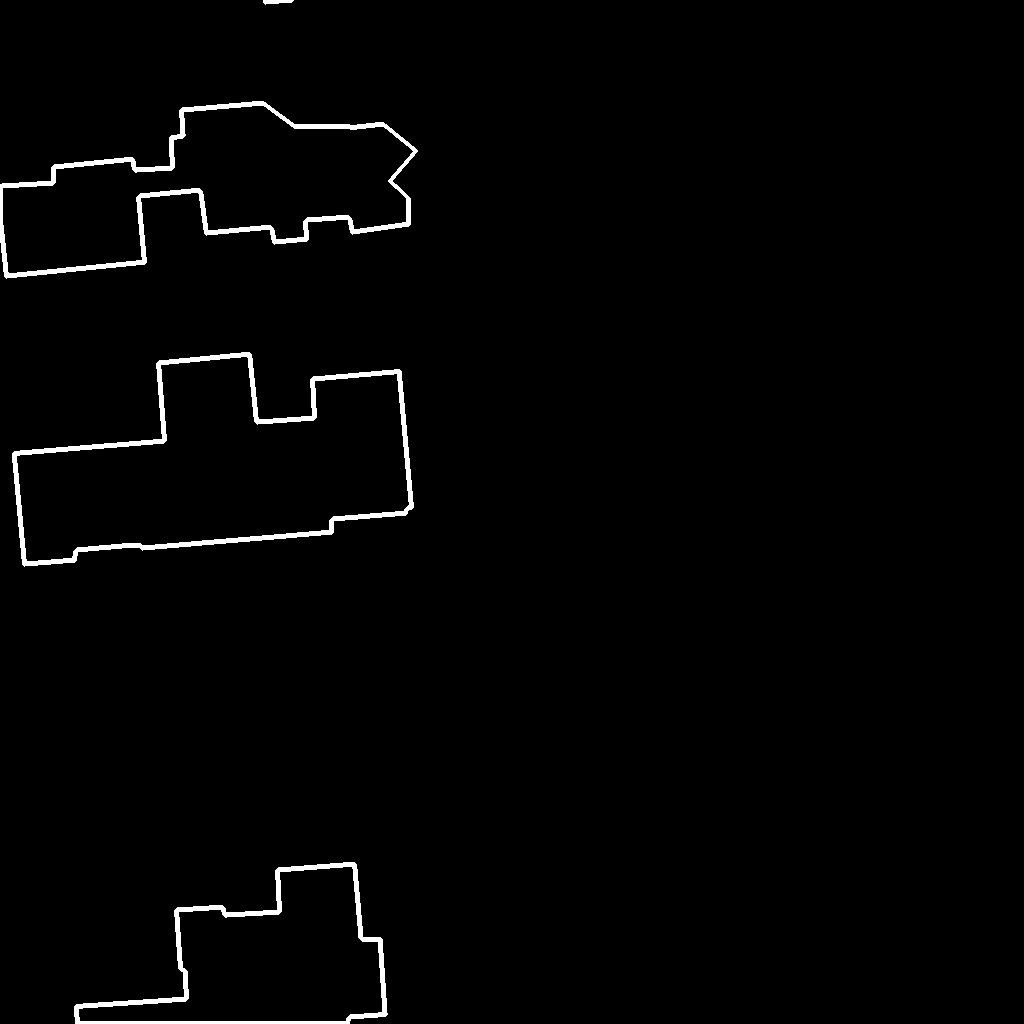building: (14, 354, 412, 565), (0, 103, 417, 277), (76, 864, 386, 1024), (265, 0, 299, 3)
